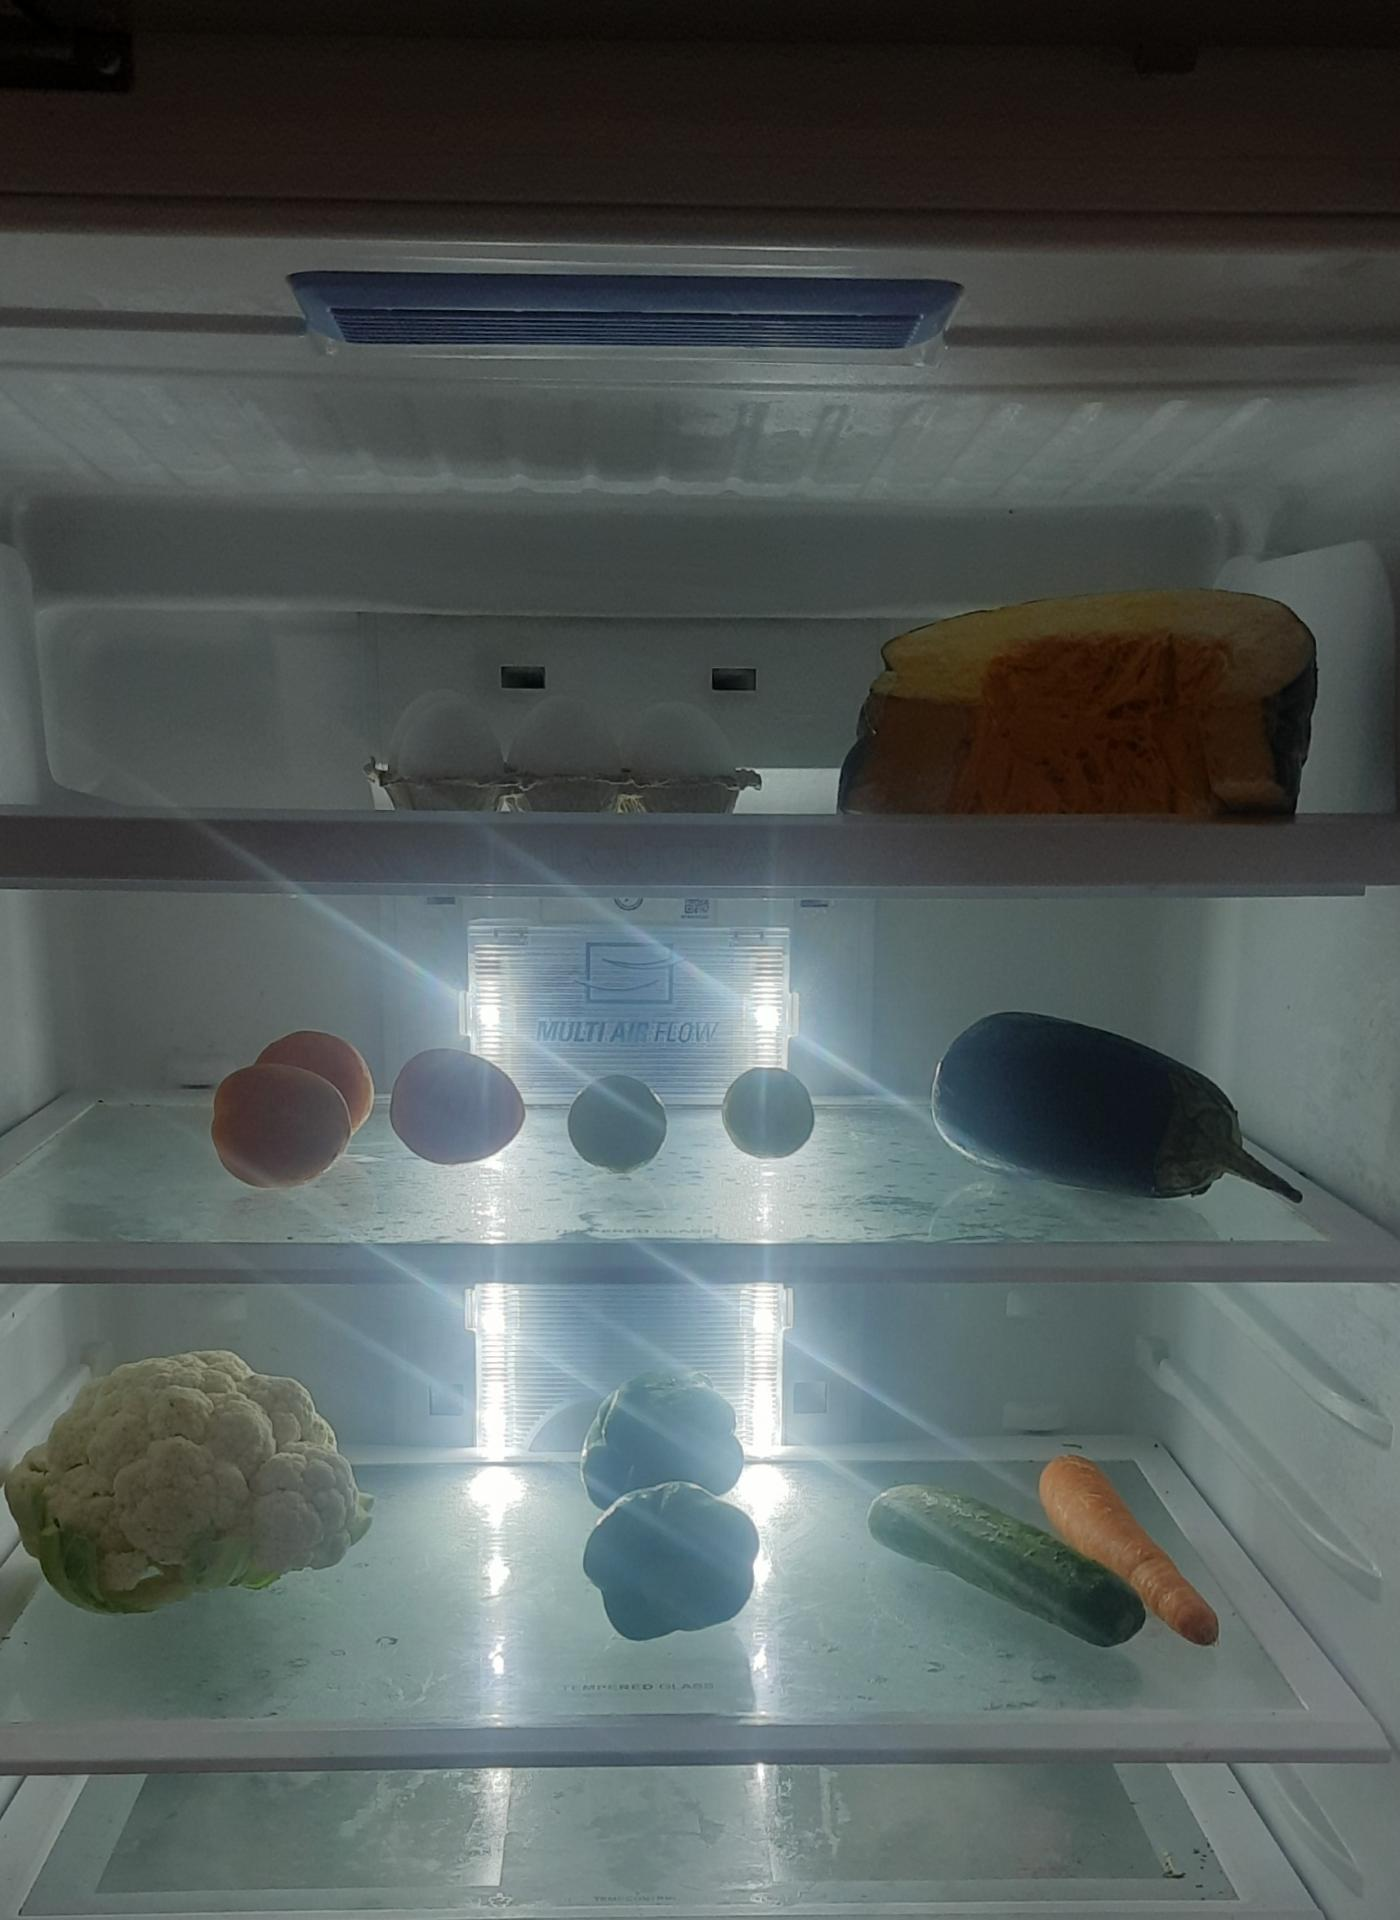brinjal: (917, 994, 1306, 1221)
capsicum: (578, 1371, 745, 1501)
carrots: (1038, 1450, 1224, 1649)
cauliflower: (9, 1351, 371, 1616)
cucumber: (859, 1464, 1144, 1653), (580, 1483, 774, 1649)
egg: (373, 672, 757, 803)
lemon: (720, 1064, 819, 1163)
pumpkin: (836, 577, 1318, 818)
tomato: (213, 1029, 383, 1185), (385, 1036, 531, 1167), (568, 1070, 671, 1172)
